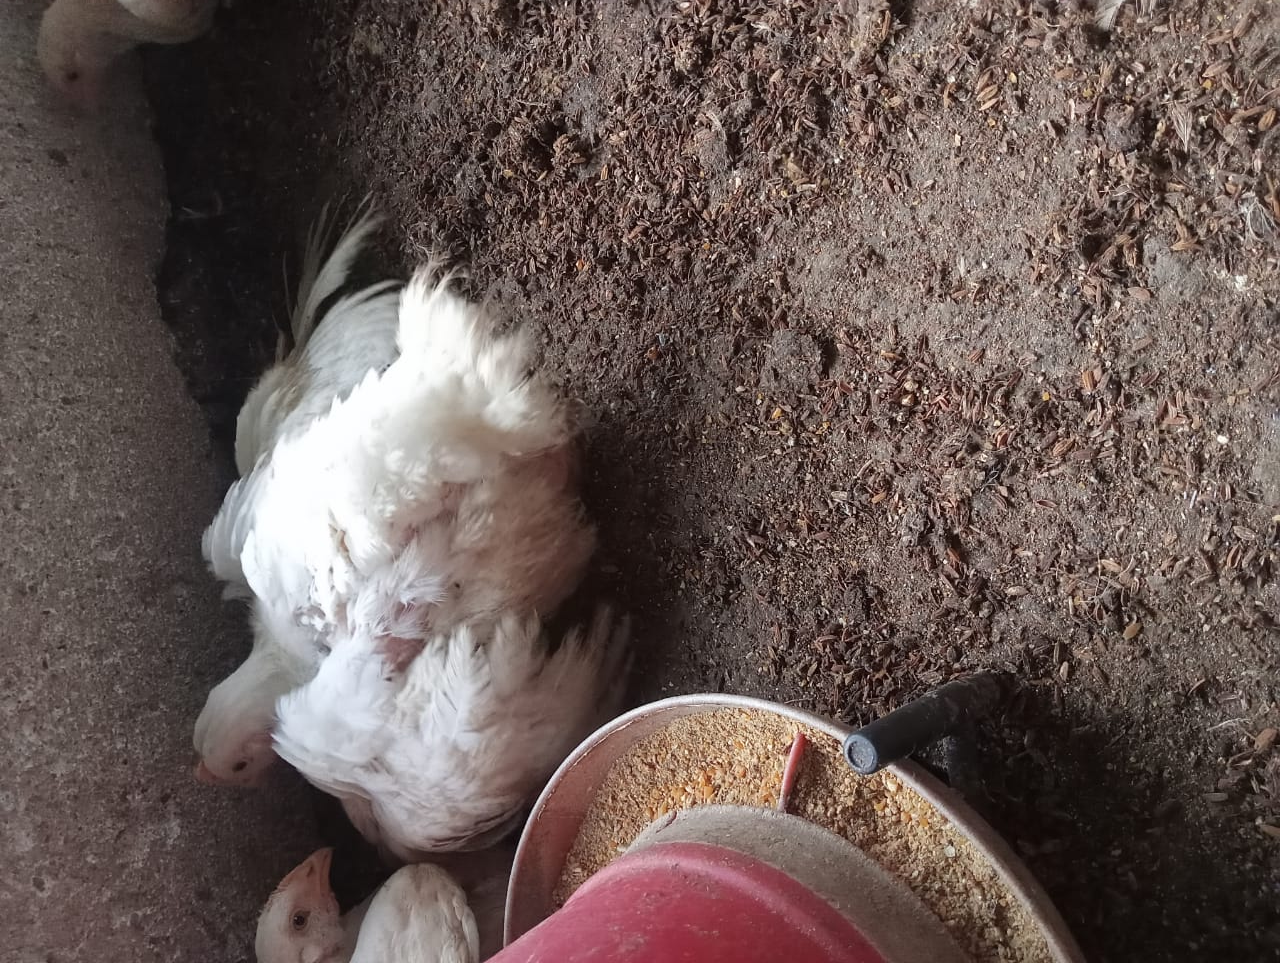Unhealthy: (72, 260, 673, 775)
